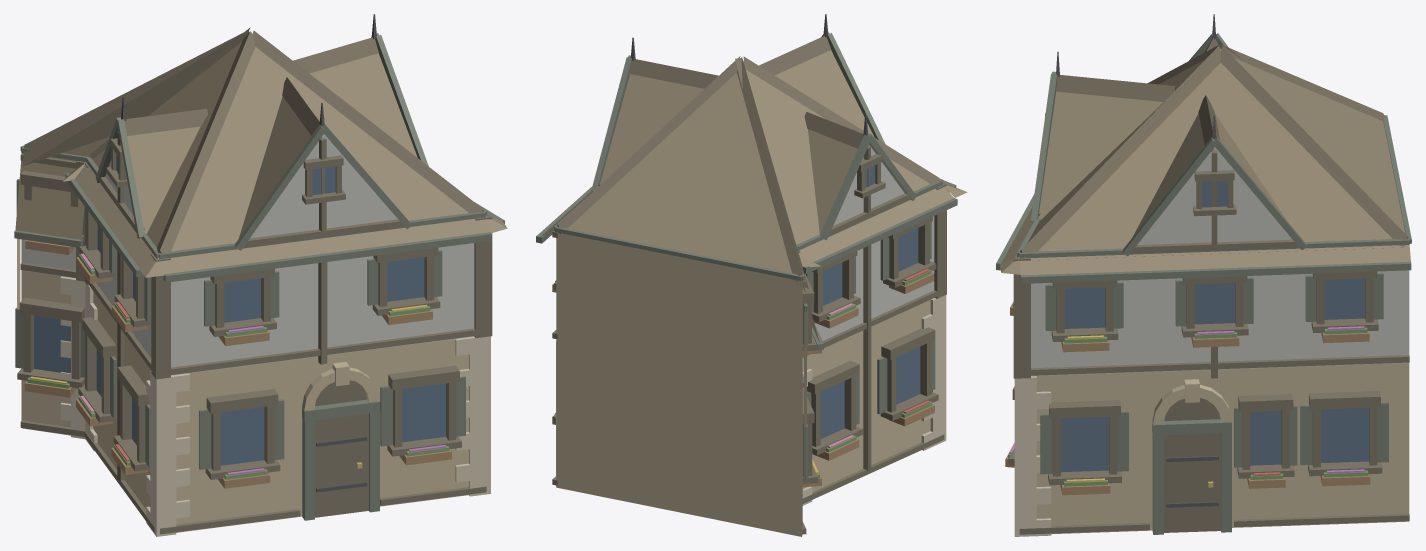
File: b107_closed.glb
3 renders of one model, left to right at view 1: azimuth 30°, elevation 25°; view 2: azimuth 150°, elevation 25°; view 3: azimuth 270°, elevation 25°, orthographic. The views are drawn at different scales.
Parts seen in each view (by area): view 1: B107_visible; view 2: B107_visible; view 3: B107_visible.
Boxes of the visible parts, x1,y1,x2,y2 form: B107_visible: (14, 14, 507, 536); B107_visible: (536, 14, 967, 536); B107_visible: (996, 14, 1411, 536).
Bounding box in the file's own units: 7.95 × 9.74 × 8.65.
